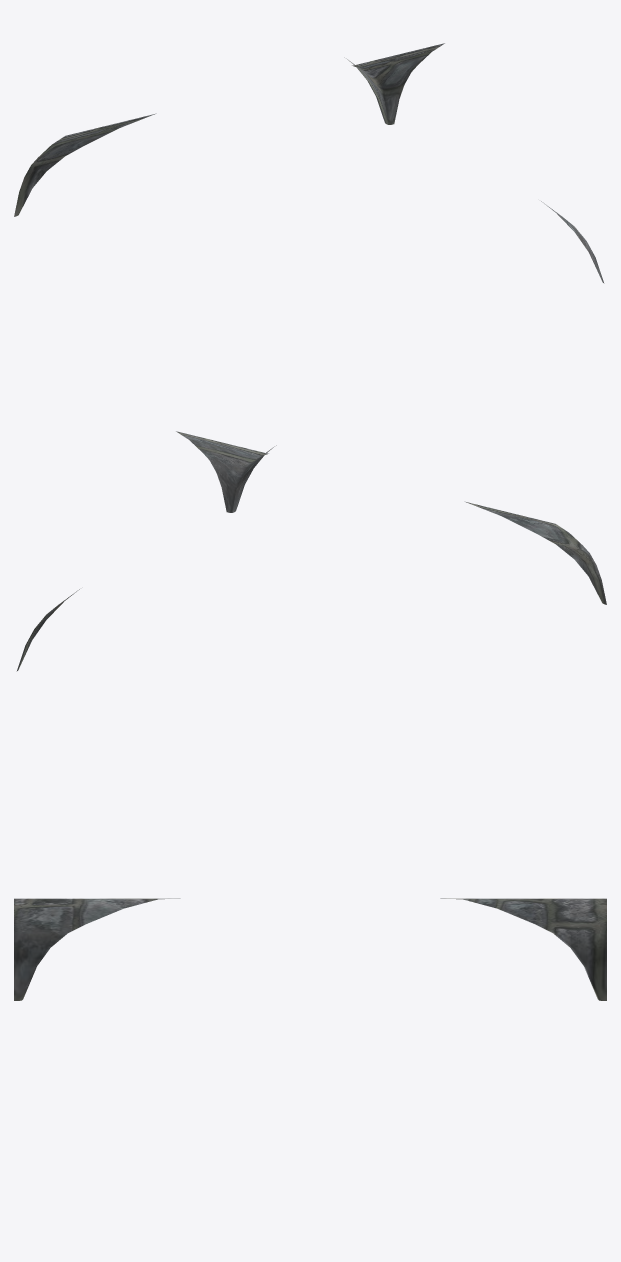
Rendered from SM_Crypt_Ceiling.glb.
The picture shows the model from 3 angles, top to bottom: view 1: azimuth 30°, elevation 25°; view 2: azimuth 150°, elevation 25°; view 3: azimuth 270°, elevation 25°; orthographic projection. The views are drawn at different scales.
Visible parts, largest first — view 1: SM_Crypt_Ceiling; view 2: SM_Crypt_Ceiling; view 3: SM_Crypt_Ceiling.
Boxes of the visible parts, x1,y1,x2,y2 form: SM_Crypt_Ceiling: (14,43,604,283); SM_Crypt_Ceiling: (16,431,606,671); SM_Crypt_Ceiling: (14,898,606,1000).
Bounding box in the file's own units: 5 × 1.93 × 5.
1 material, 1 textured.
